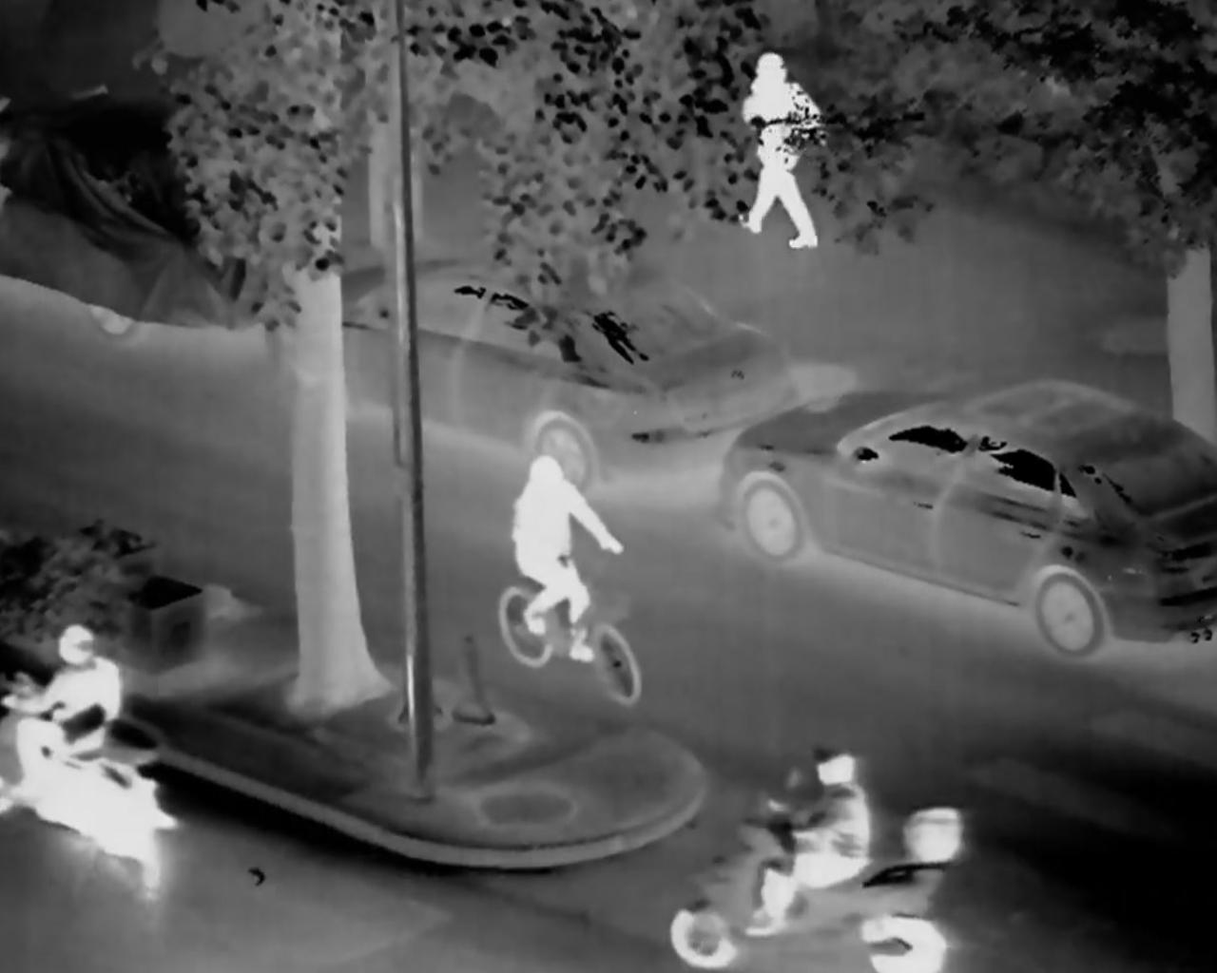person: (12, 622, 159, 860), (503, 449, 624, 665), (743, 735, 871, 937), (729, 38, 842, 258)
